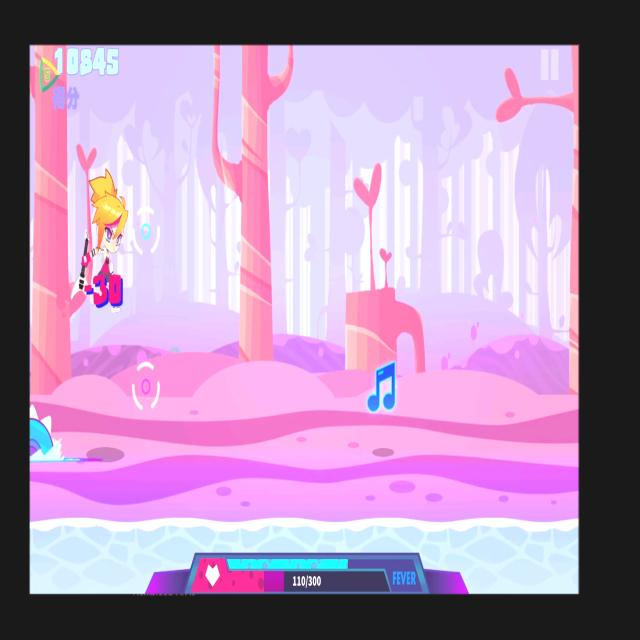incentive-blue Music note: (361, 354, 402, 422)
